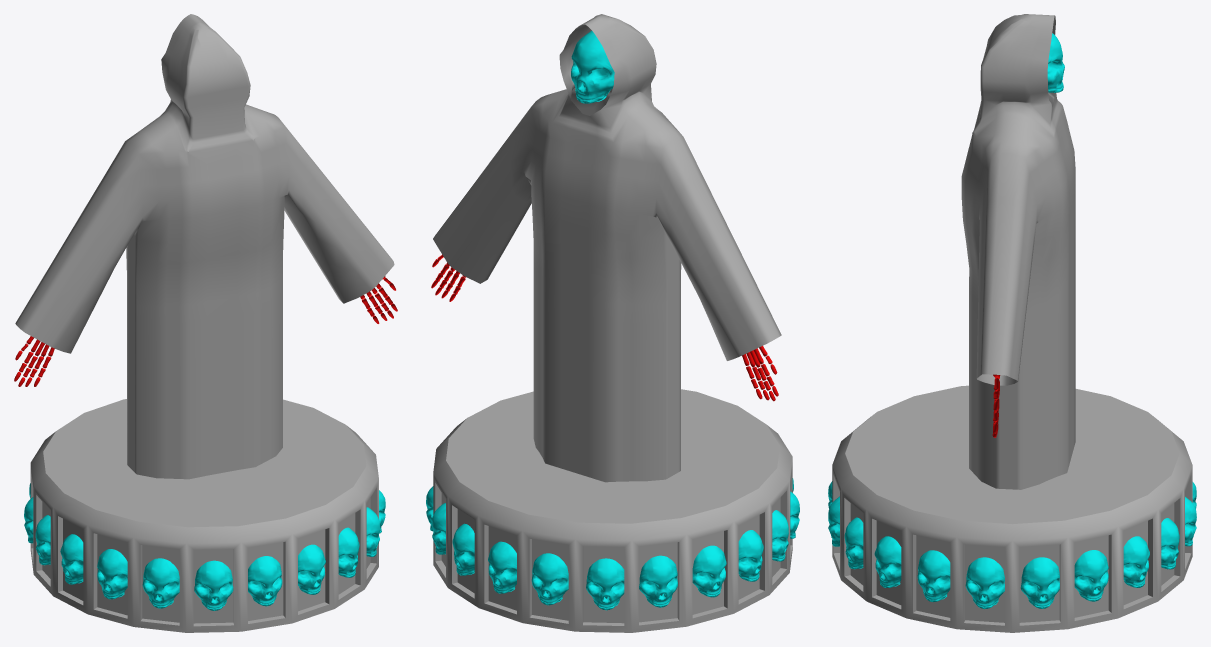
File: grim reaper tower base.fbx
3 views of the same model, side by side, from view 1: azimuth 30°, elevation 25°; view 2: azimuth 150°, elevation 25°; view 3: azimuth 270°, elevation 25° (orthographic). The views are drawn at different scales.
Parts seen in each view (by area): view 1: pPlane5; view 2: pPlane5; view 3: pPlane5.
Part boxes in pixels (left/top/right/bottom): pPlane5: left=14, top=14, right=397, bottom=632; pPlane5: left=426, top=14, right=799, bottom=632; pPlane5: left=828, top=14, right=1196, bottom=632.
Size of the model in its own units: 287 by 404 by 248.
